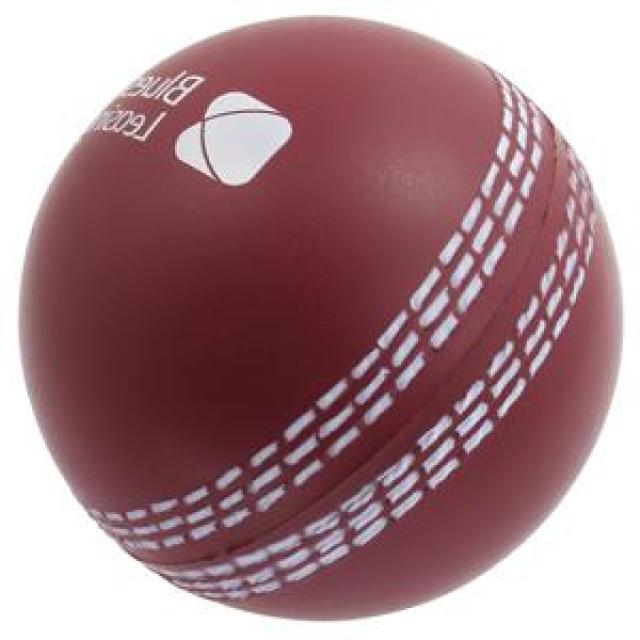ball: (19, 17, 619, 619)
